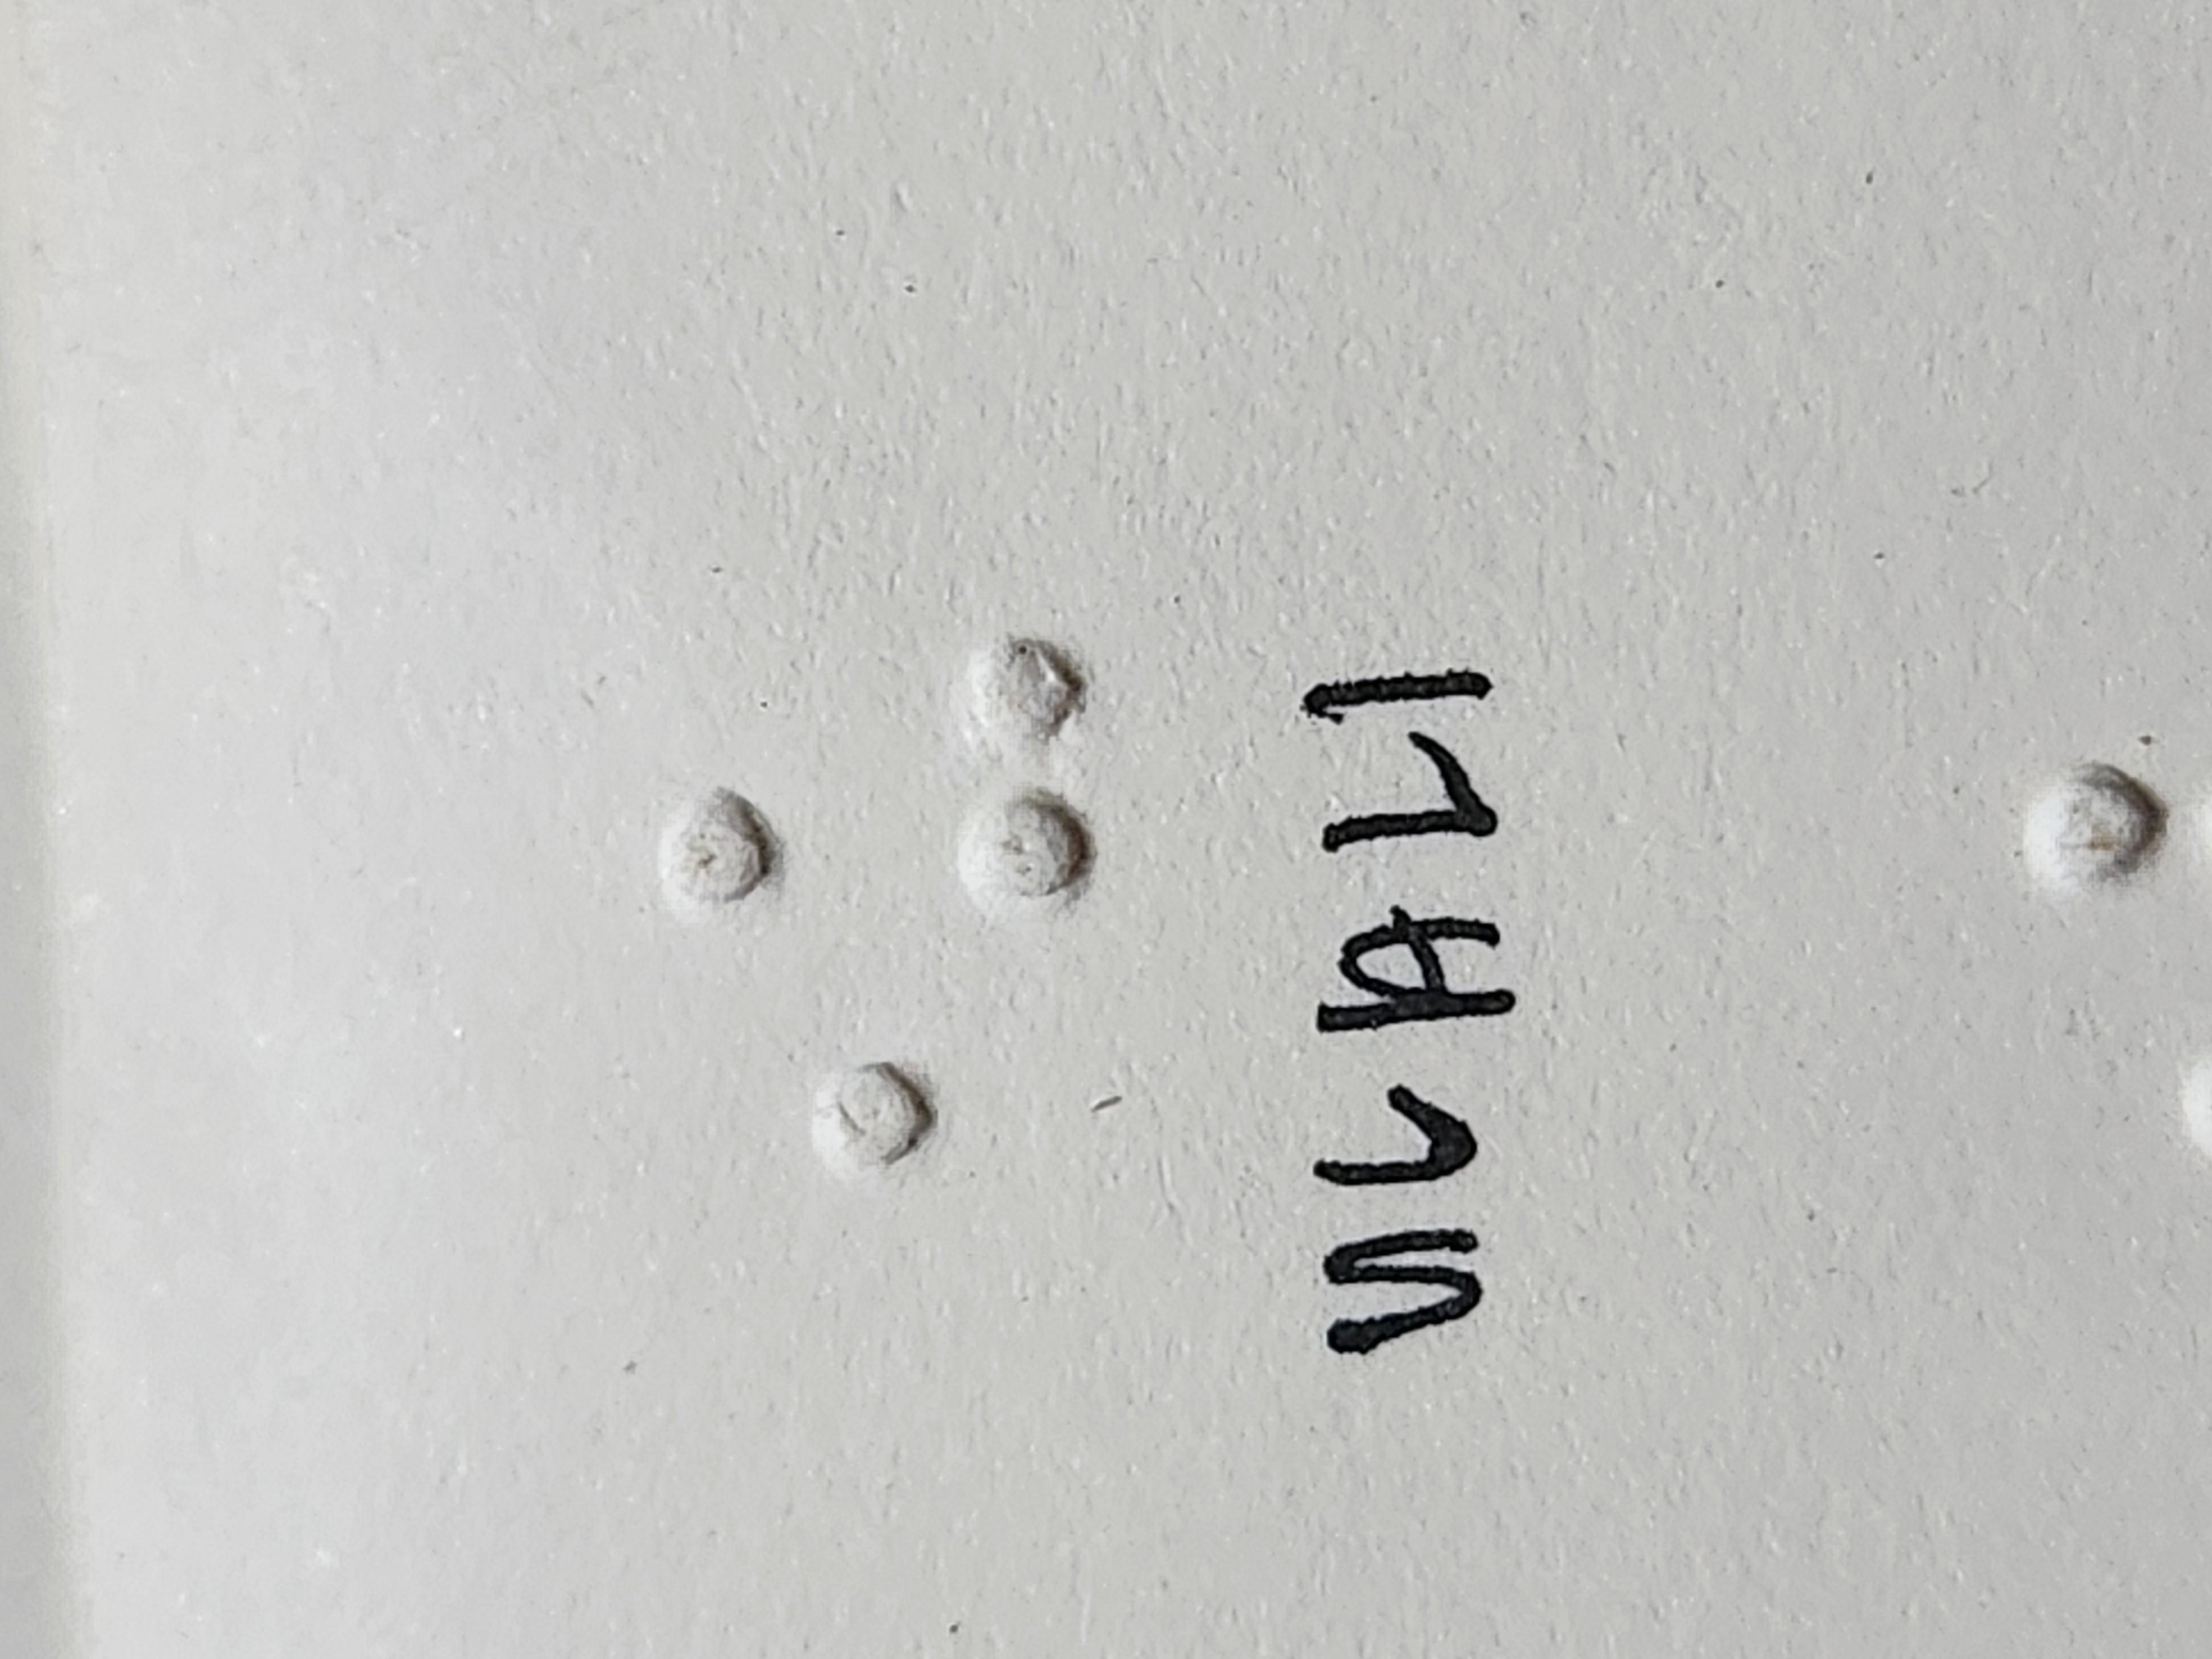dot_5: (423, 483, 803, 826)
two_cell_alphabet_ugali: (989, 486, 1369, 830)
